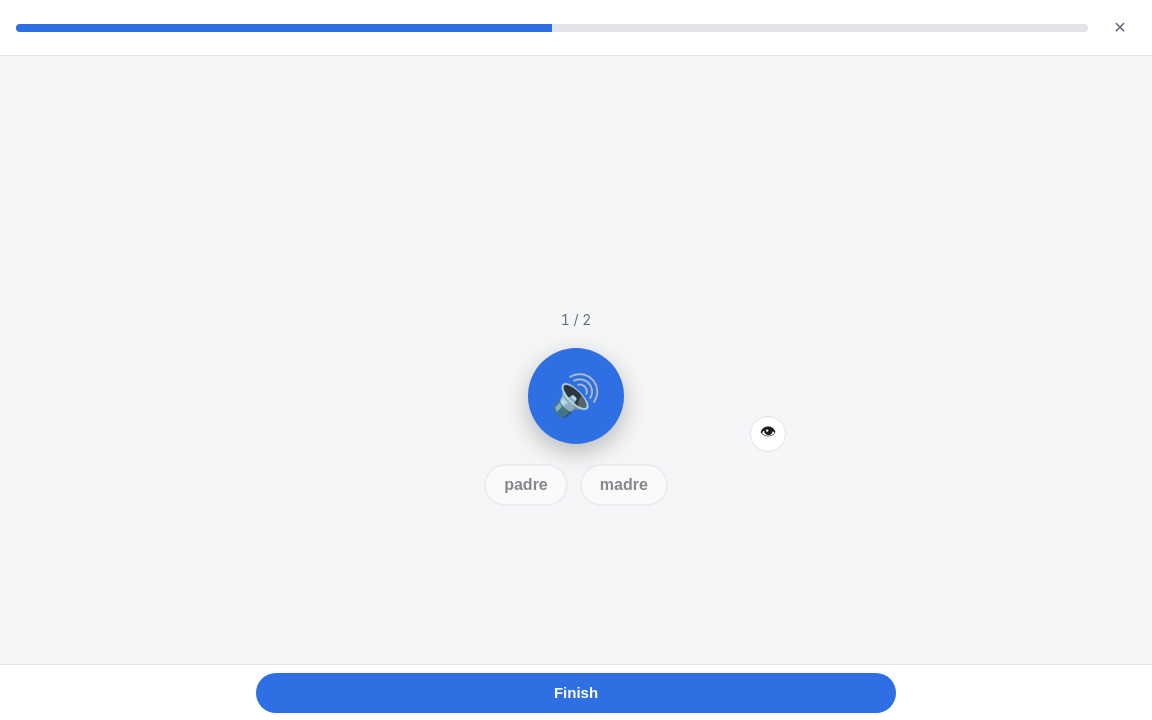
Scenario: ListenIdentifyPage › has a top bar with a progress bar that fills as rounds advance
Click the button "padre" at (526, 484), box x1=484 y1=464 x2=568 y2=506
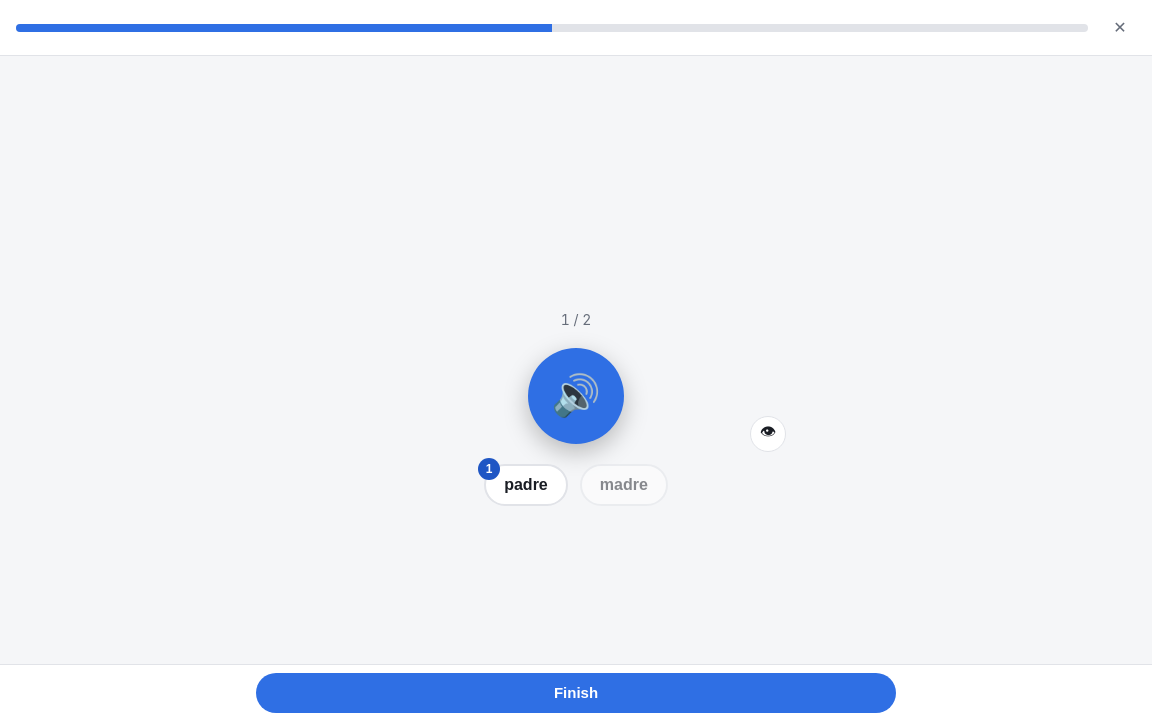
Click the button "madre" at (624, 484), box x1=580 y1=464 x2=668 y2=506
Wait 1000 ms
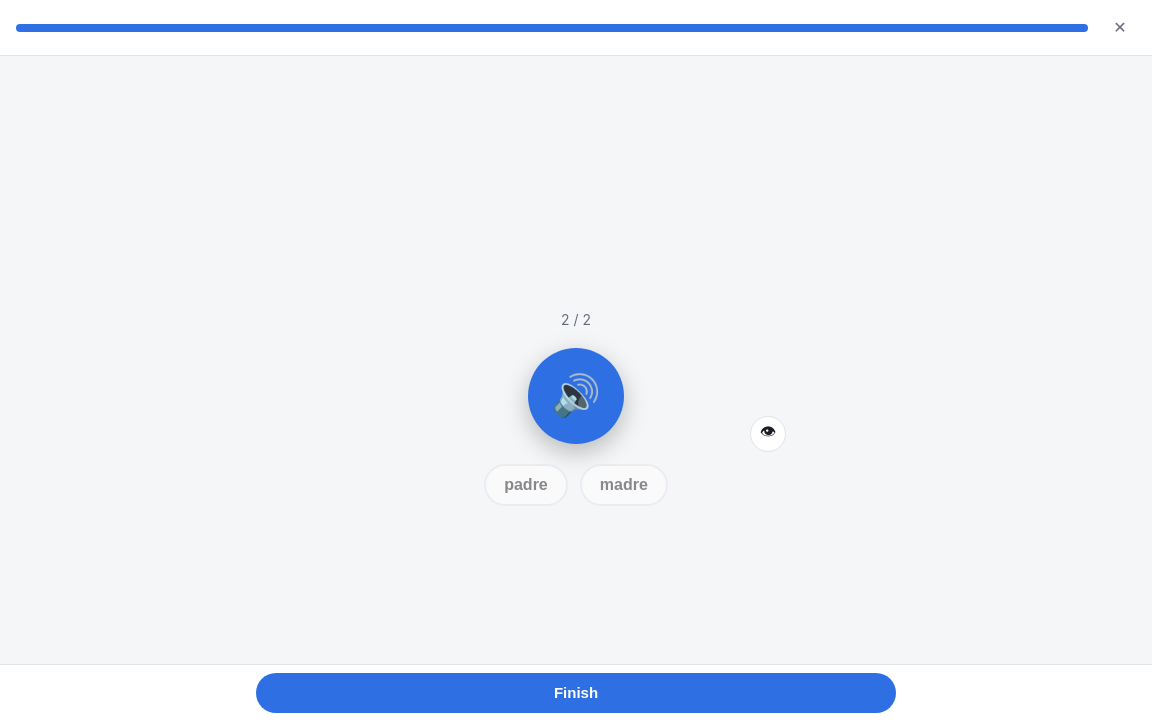
Now the text "2 / 2" is shown, box x1=561 y1=310 x2=591 y2=328
